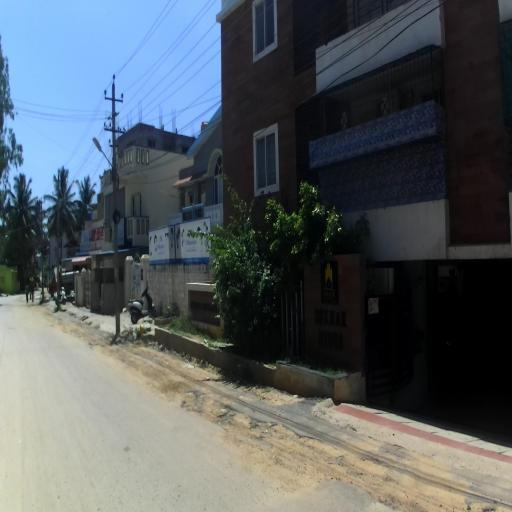street_light_0: (92, 137, 118, 183)
